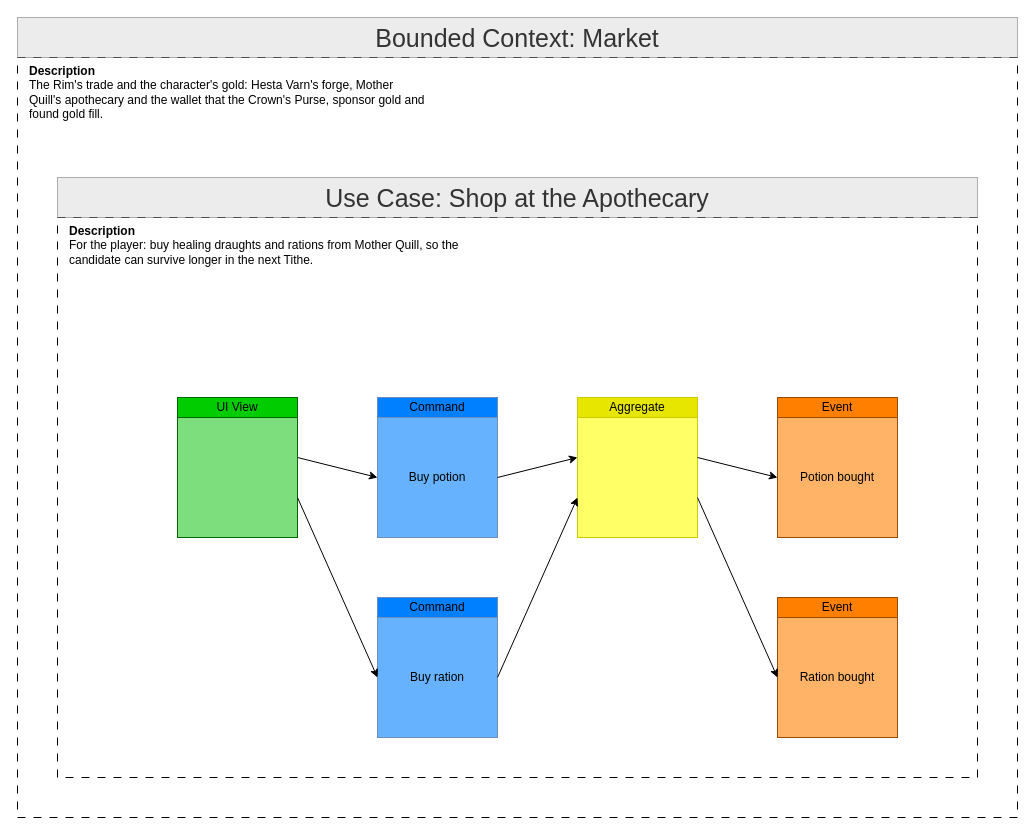
The diagram is 1035 pixels wide and 835 high, and some of its shapes have lost their labels. The box of each missing label's shape, as (x1, y1, x2, y2) in pixels:
Apothecary Player: (176, 416, 298, 538)
Wallet Gold: (576, 416, 698, 538)
